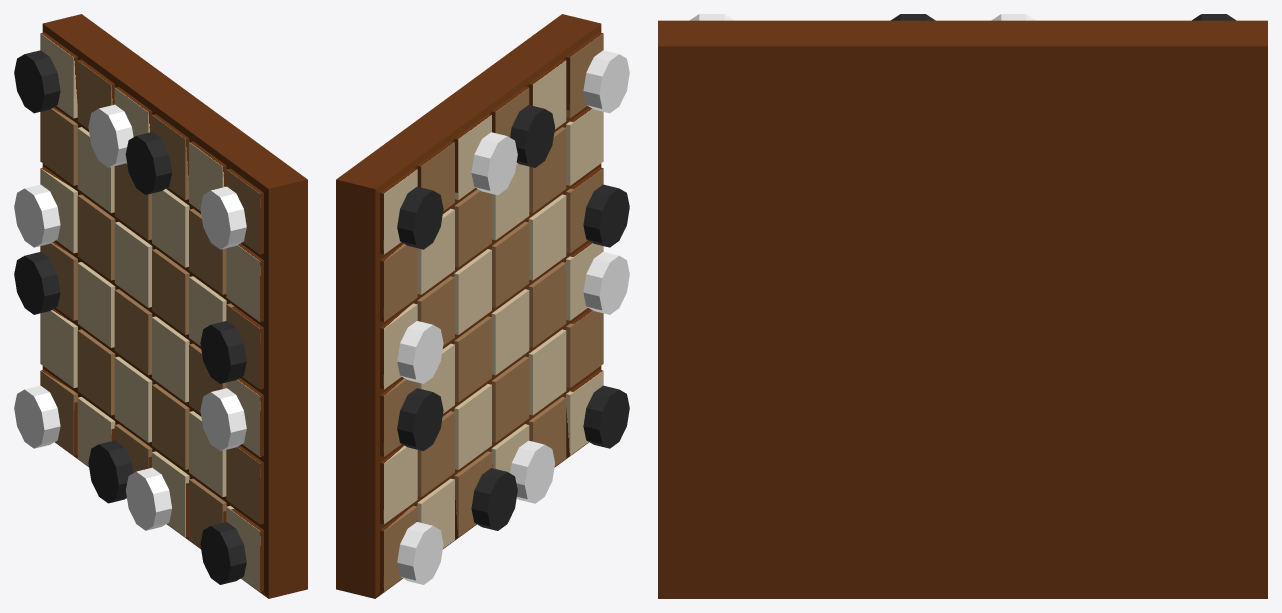
File: banner.glb
The picture shows the model from 3 angles, left to right: view 1: azimuth 30°, elevation 25°; view 2: azimuth 150°, elevation 25°; view 3: azimuth 270°, elevation 25°; orthographic projection. The views are drawn at different scales.
Visible parts, largest first — view 1: Cube, Cylinder.003, Cylinder.004, Cylinder.001, Cylinder.005, Cylinder.007, Cylinder, Cylinder.008, Cylinder.002, Cylinder.006, Cylinder.011, Cylinder.009 (+1 smaller); view 2: Cube, Cylinder.009, Cylinder.003, Cylinder.004, Cylinder.010, Cylinder, Cylinder.002, Cylinder.006, Cylinder.005, Cylinder.001, Cylinder.007, Cylinder.011 (+1 smaller); view 3: Cube.
Boxes of the visible parts, box(x1,y1,x2,y2) form: Cube: box(40, 14, 307, 598); Cylinder.003: box(14, 50, 60, 113); Cylinder.004: box(200, 186, 246, 249); Cylinder.001: box(14, 252, 60, 314); Cylinder.005: box(200, 321, 246, 383); Cylinder.007: box(200, 522, 246, 584); Cylinder: box(14, 184, 60, 247); Cylinder.008: box(125, 132, 171, 194); Cylinder.002: box(14, 385, 60, 448); Cylinder.006: box(200, 388, 246, 451); Cylinder.011: box(125, 467, 171, 530); Cylinder.009: box(88, 104, 133, 167); Cube: box(336, 14, 603, 598); Cylinder.009: box(471, 132, 517, 195); Cylinder.003: box(397, 186, 443, 249); Cylinder.004: box(583, 50, 629, 113); Cylinder.010: box(471, 468, 517, 530); Cylinder: box(397, 321, 443, 383); Cylinder.002: box(397, 522, 443, 584); Cylinder.006: box(583, 252, 629, 314); Cylinder.005: box(583, 184, 629, 247); Cylinder.001: box(397, 388, 443, 451); Cylinder.007: box(583, 385, 629, 448); Cylinder.011: box(510, 440, 554, 503); Cube: box(658, 20, 1267, 598).
Bounding box in the file's own units: 2.59 × 14.03 × 14.03.
1 material, 1 textured.
